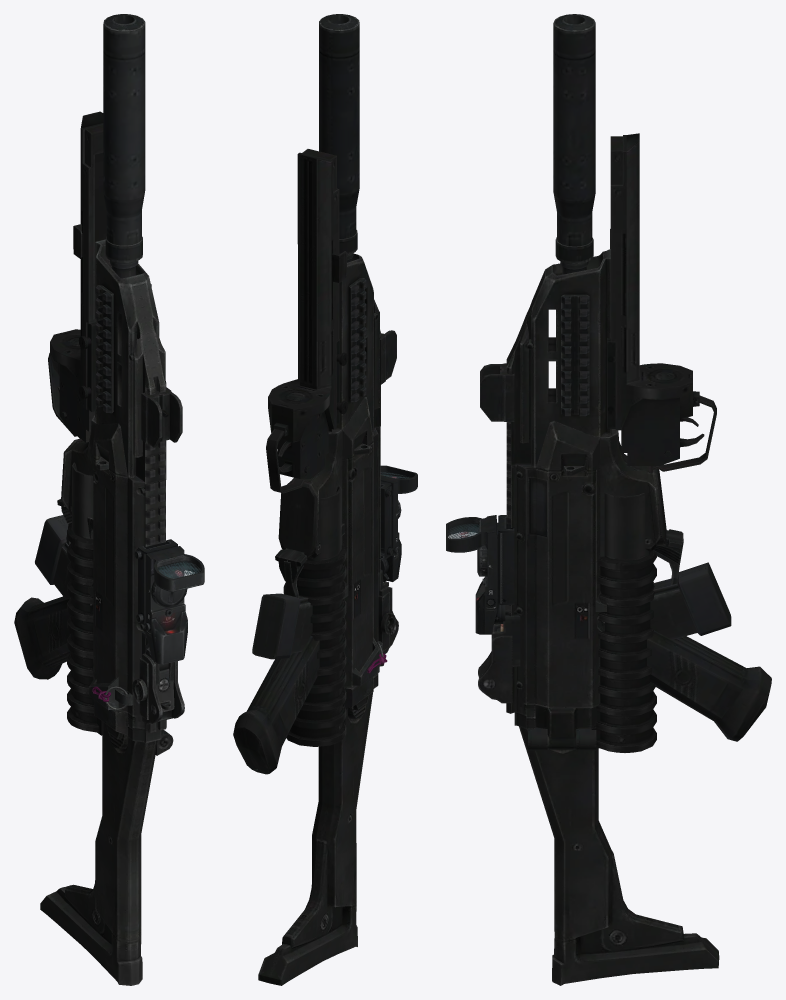
Rendered from EVO3.obj.
3 views of the same model, side by side, from view 1: azimuth 30°, elevation 25°; view 2: azimuth 150°, elevation 25°; view 3: azimuth 270°, elevation 25° (orthographic). The views are drawn at different scales.
Parts seen in each view (by area): view 1: Model_EVO-3, Model_Ris_M203, Model_GrenadeHandle, DotSight, Model_Magazine; view 2: Model_EVO-3, Model_Ris_M203, Model_GrenadeHandle, Model_Magazine, DotSight; view 3: Model_EVO-3, Model_Ris_M203, Model_GrenadeHandle, Model_Magazine, DotSight.
Boxes of the visible parts, box(x1,y1,x2,y2) form: Model_EVO-3: box(14, 14, 184, 985); Model_Ris_M203: box(48, 111, 106, 442); Model_GrenadeHandle: box(67, 462, 103, 735); DotSight: box(134, 539, 204, 664); Model_Magazine: box(35, 515, 173, 685); Model_EVO-3: box(233, 14, 398, 985); Model_Ris_M203: box(266, 149, 348, 493); Model_GrenadeHandle: box(283, 485, 346, 746); Model_Magazine: box(252, 569, 388, 659); DotSight: box(378, 465, 417, 582); Model_EVO-3: box(478, 14, 771, 985); Model_Ris_M203: box(607, 133, 716, 471); Model_GrenadeHandle: box(591, 493, 656, 752); Model_Magazine: box(492, 562, 731, 666); DotSight: box(446, 515, 514, 634).
Bounding box in the file's own units: 0.0616 × 0.8686 × 0.2671.
4 materials, 4 textured.
